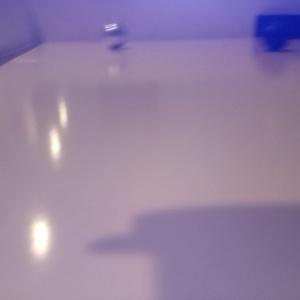alive_ball: (100, 21, 128, 48)
dead_ball: (262, 20, 289, 50)
